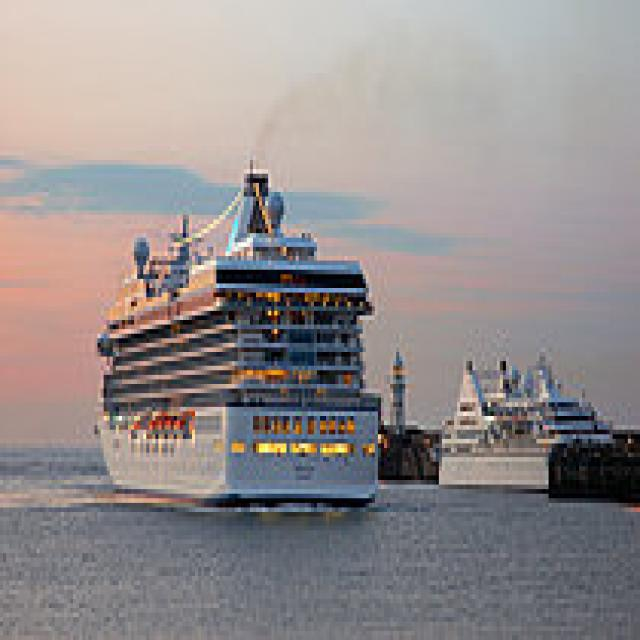Ship: (90, 156, 391, 513), (428, 348, 623, 504)
